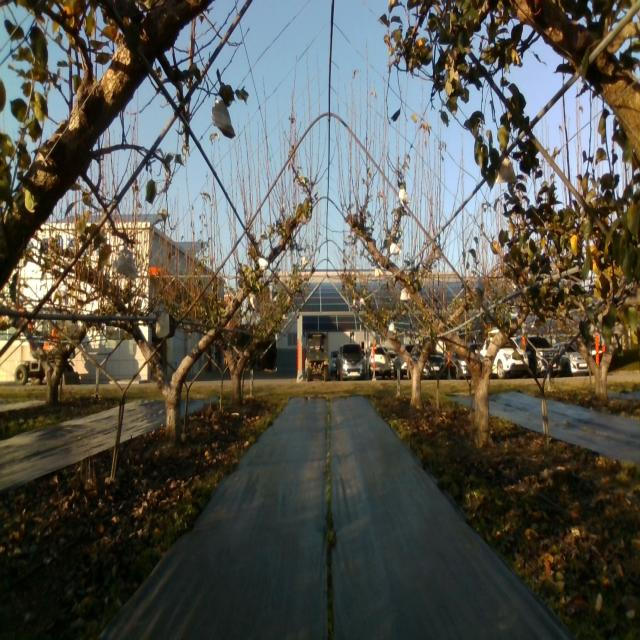pearbags: (212, 96, 236, 140), (111, 242, 138, 280), (496, 157, 518, 184)
